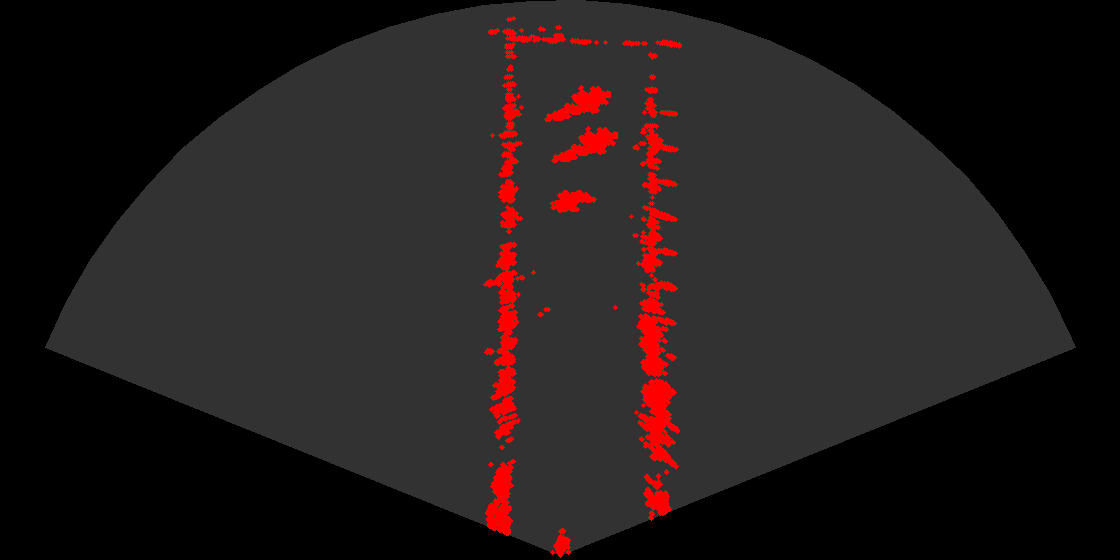AUV: (544, 188, 600, 220)
frogman: (550, 120, 618, 167), (543, 79, 611, 126)
